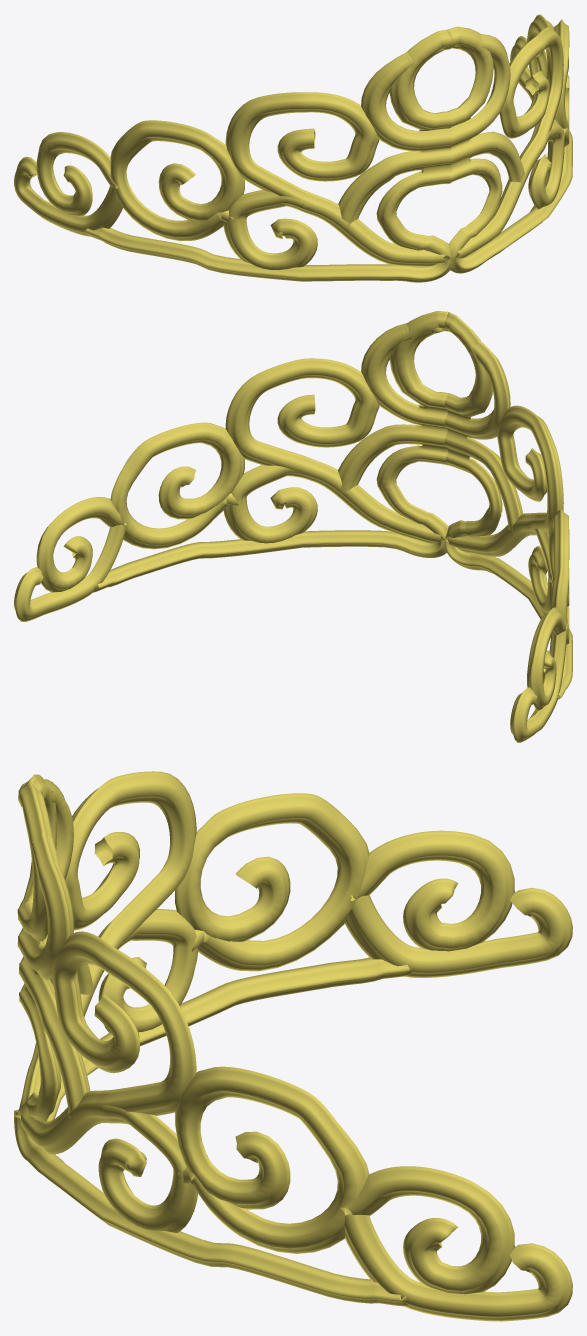
File: tiara.fbx
The picture shows the model from 3 angles, top to bottom: view 1: azimuth 30°, elevation 25°; view 2: azimuth 150°, elevation 25°; view 3: azimuth 270°, elevation 25°; orthographic projection. The views are drawn at different scales.
Parts seen in each view (by area): view 1: tiara; view 2: tiara; view 3: tiara.
Part boxes in pixels (box(x1,y1,x2,y2)): tiara: box(14, 14, 572, 282); tiara: box(14, 311, 572, 742); tiara: box(14, 771, 572, 1321).
Bounding box in the file's own units: 750 × 349 × 483.
